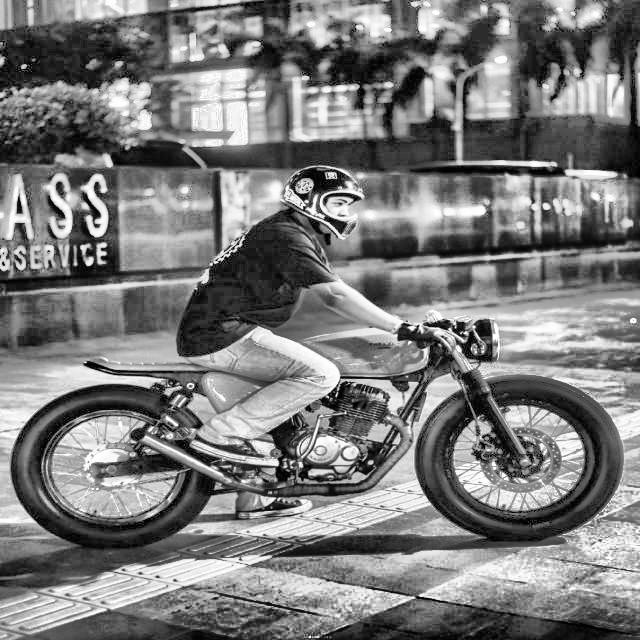Helmet: (278, 161, 368, 245)
